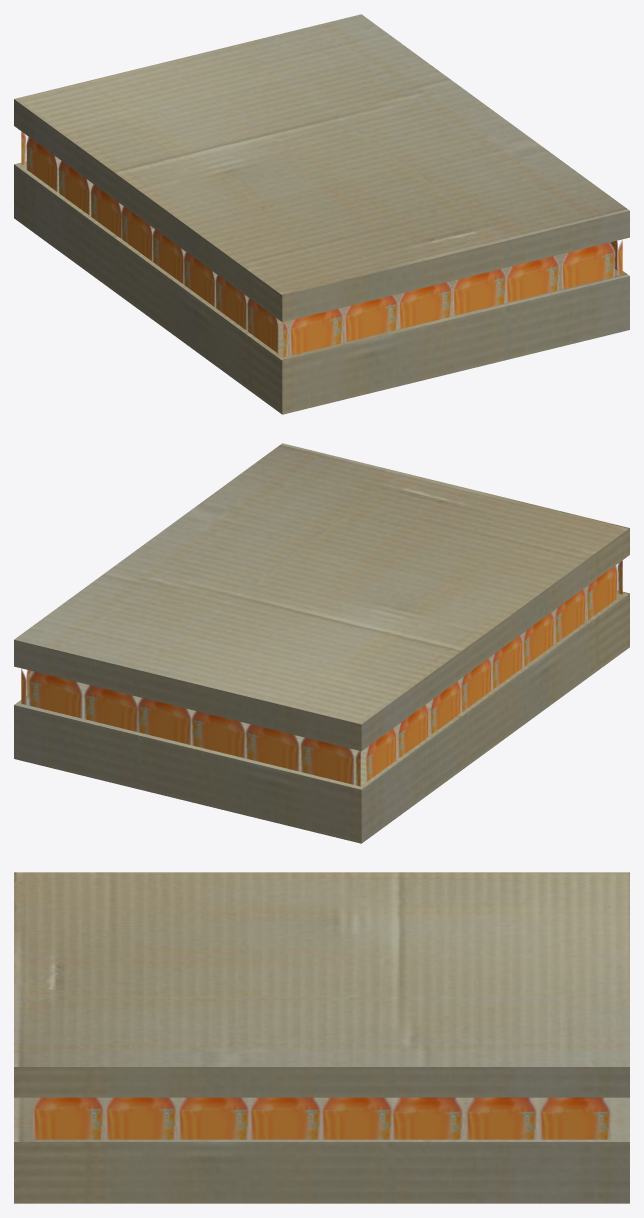
Rendered from CansBoxOrange.glb.
3 views of the same model, one above another, from view 1: azimuth 30°, elevation 25°; view 2: azimuth 150°, elevation 25°; view 3: azimuth 270°, elevation 25° (orthographic). The views are drawn at different scales.
Visible parts, largest first — view 1: Boxes_Refreshment _02; view 2: Boxes_Refreshment _02; view 3: Boxes_Refreshment _02.
Part boxes in pixels (x1,y1,x2,y2): Boxes_Refreshment _02: (14, 14, 629, 414); Boxes_Refreshment _02: (14, 443, 629, 843); Boxes_Refreshment _02: (14, 872, 629, 1203).
Bounding box in the file's own units: 0.9668 × 0.3169 × 1.29.
2 materials, 2 textured.
